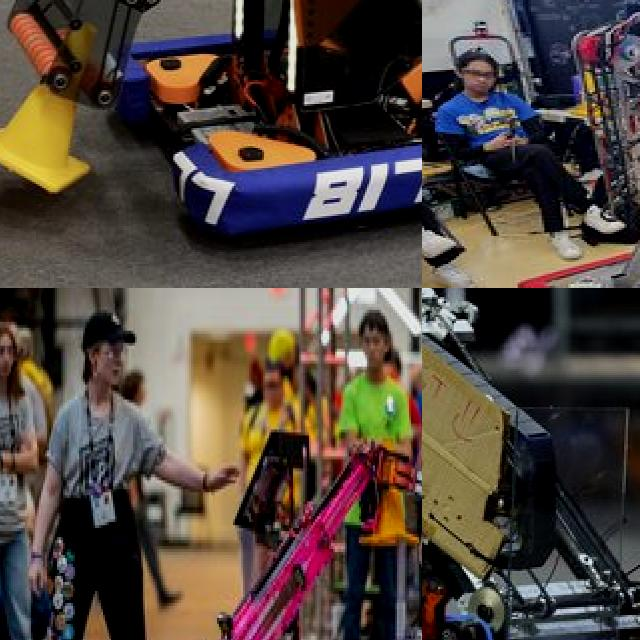FRC-Robots: (0, 0, 422, 234), (72, 389, 422, 640), (422, 288, 640, 640), (525, 0, 640, 288)
